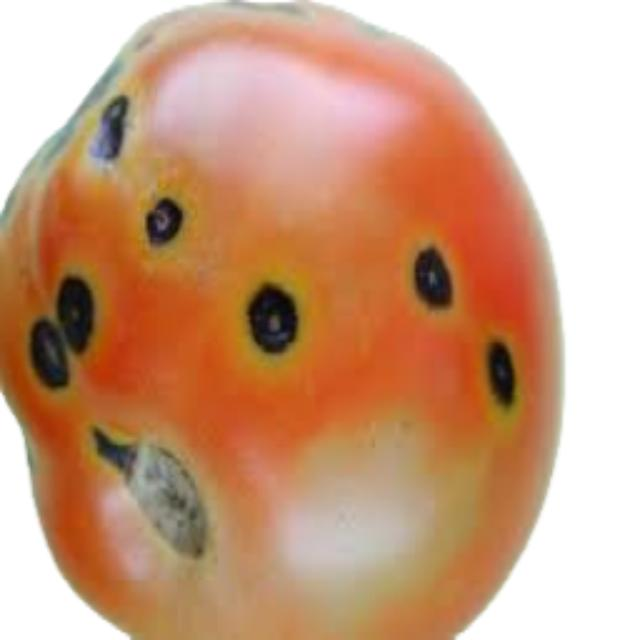defect: (1, 0, 571, 640)
